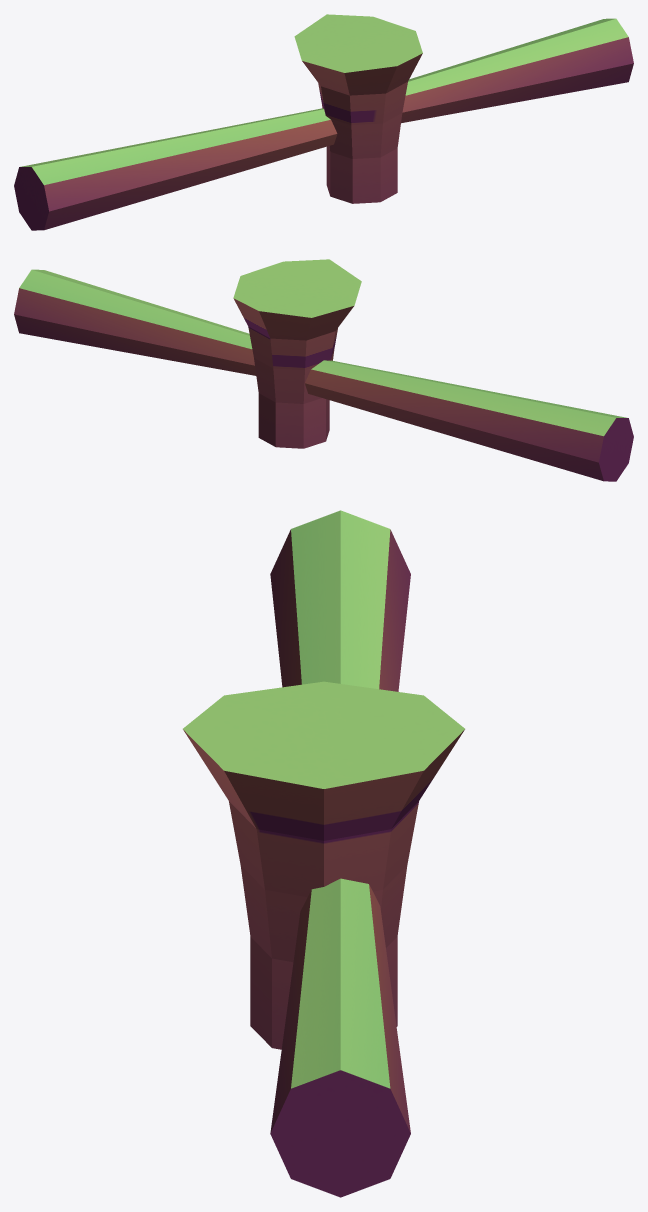
Rendered from SM_Props_Fence2.fbx.
3 views of the same model, one above another, from view 1: azimuth 30°, elevation 25°; view 2: azimuth 150°, elevation 25°; view 3: azimuth 270°, elevation 25° (orthographic). The views are drawn at different scales.
Visible parts, largest first — view 1: Pagar 2; view 2: Pagar 2; view 3: Pagar 2.
Boxes of the visible parts, left/top/right/bottom form: Pagar 2: left=14, top=14, right=633, bottom=230; Pagar 2: left=14, top=259, right=633, bottom=481; Pagar 2: left=183, top=510, right=464, bottom=1197.
Size of the model in its own units: 219 by 53.13 by 45.81.
Materials: 1 (1 with a texture image).
